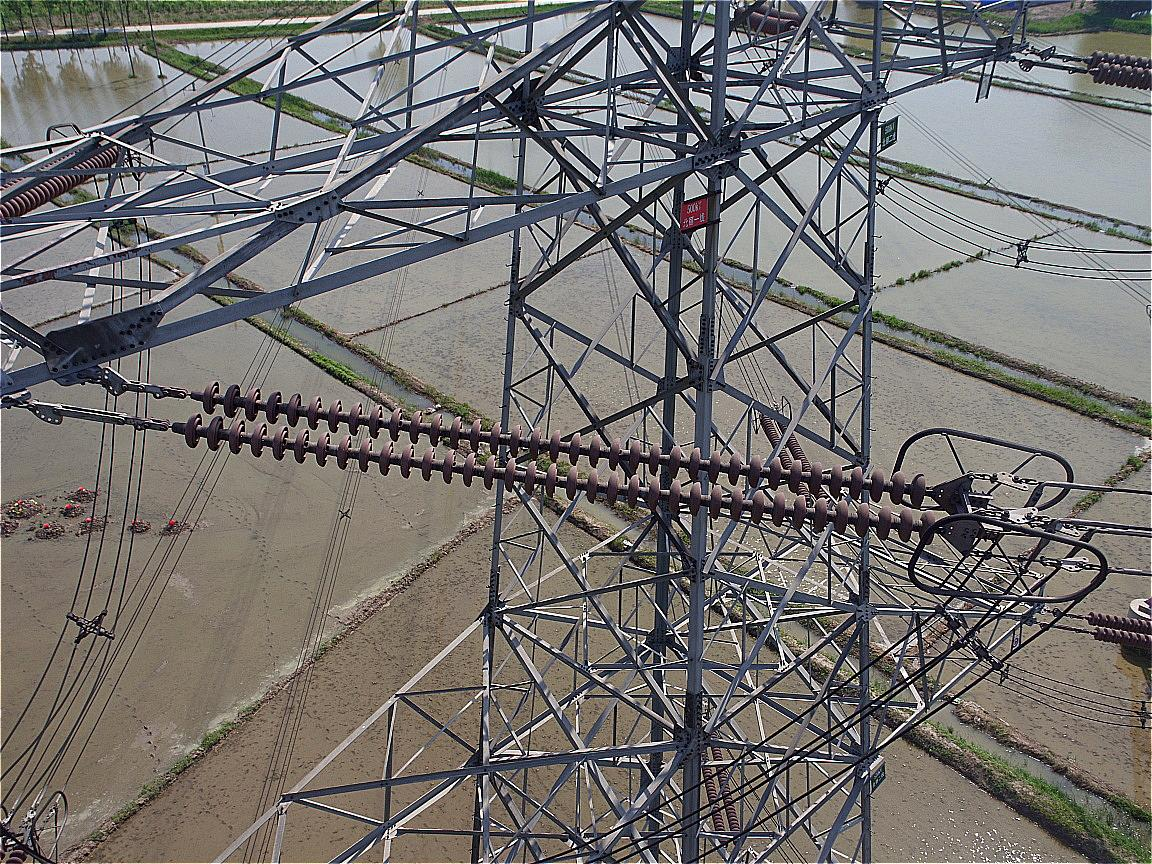insultor1: (161, 362, 971, 553)
